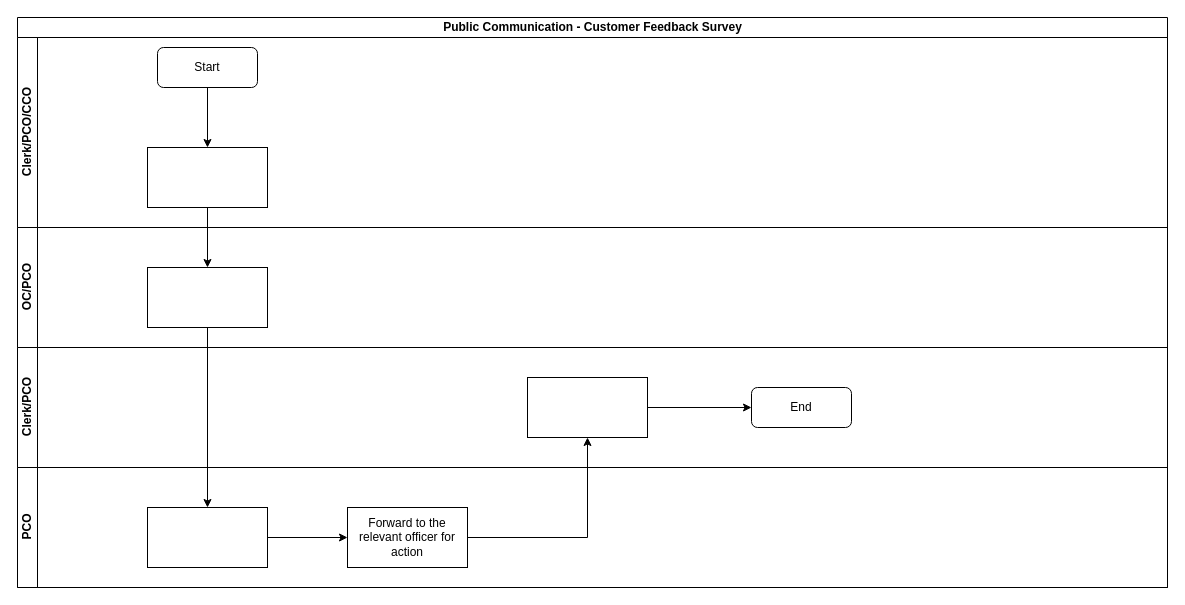
Image size: 1185x605. Some labels were removed from this diagram. Each missing label, with the centre of its shape:
Acknowledgement of receipt of communication: point (207, 297)
Receive Communication to the Assembly: point (207, 177)
Record customer request: point (207, 537)
Track the period of response: point (587, 407)
